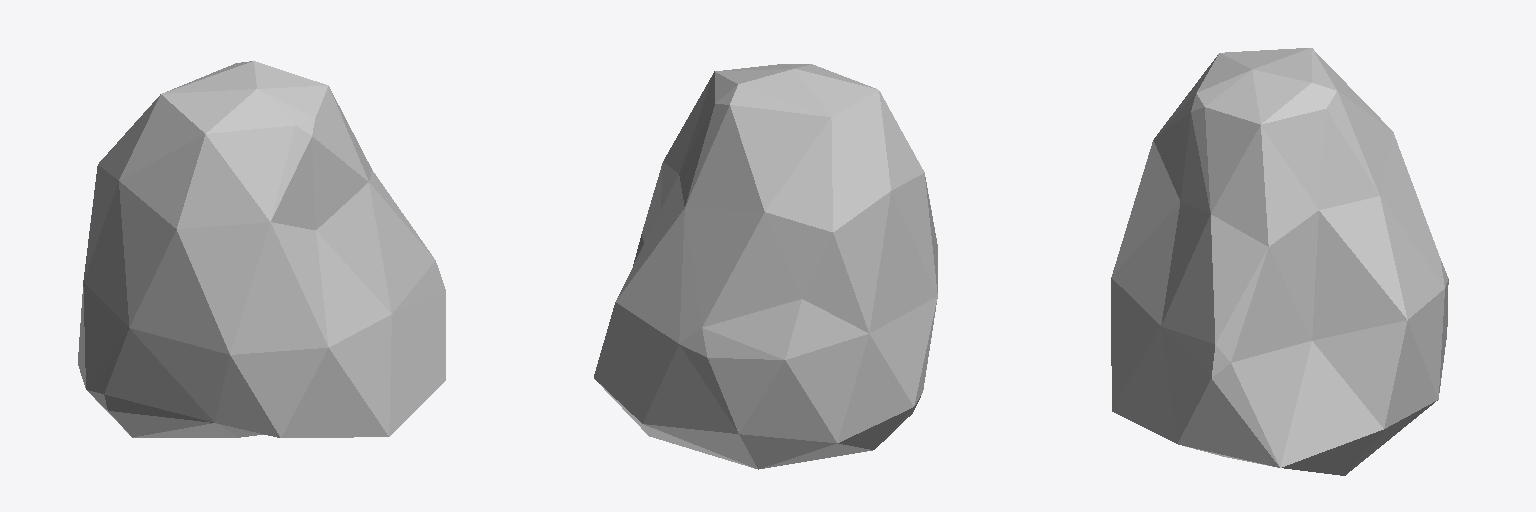
File: Iron_Nugget_Large.obj
3 renders of one model, left to right at view 1: azimuth 30°, elevation 25°; view 2: azimuth 150°, elevation 25°; view 3: azimuth 270°, elevation 25°, orthographic.
Visible parts, largest first — view 1: Iron_Nugget_Large; view 2: Iron_Nugget_Large; view 3: Iron_Nugget_Large.
Boxes of the visible parts, x1,y1,x2,y2 form: Iron_Nugget_Large: [78, 61, 445, 437]; Iron_Nugget_Large: [594, 64, 937, 469]; Iron_Nugget_Large: [1111, 48, 1448, 475].
Size of the model in its own units: 0.4271 by 0.4656 by 0.3947.